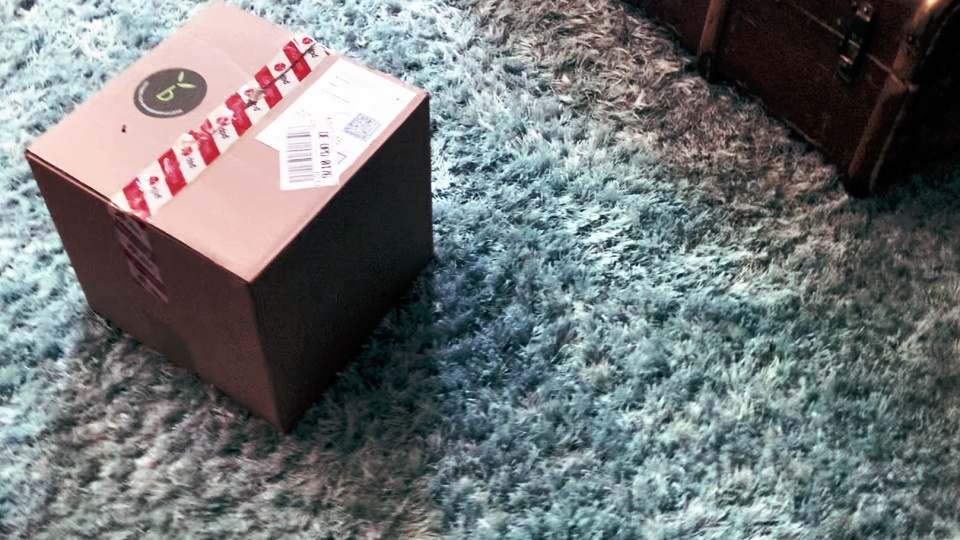good-parcel: (22, 0, 450, 452)
